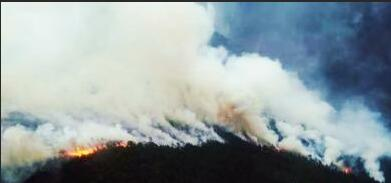fire: (56, 138, 132, 157)
yanwu: (0, 1, 384, 177)
